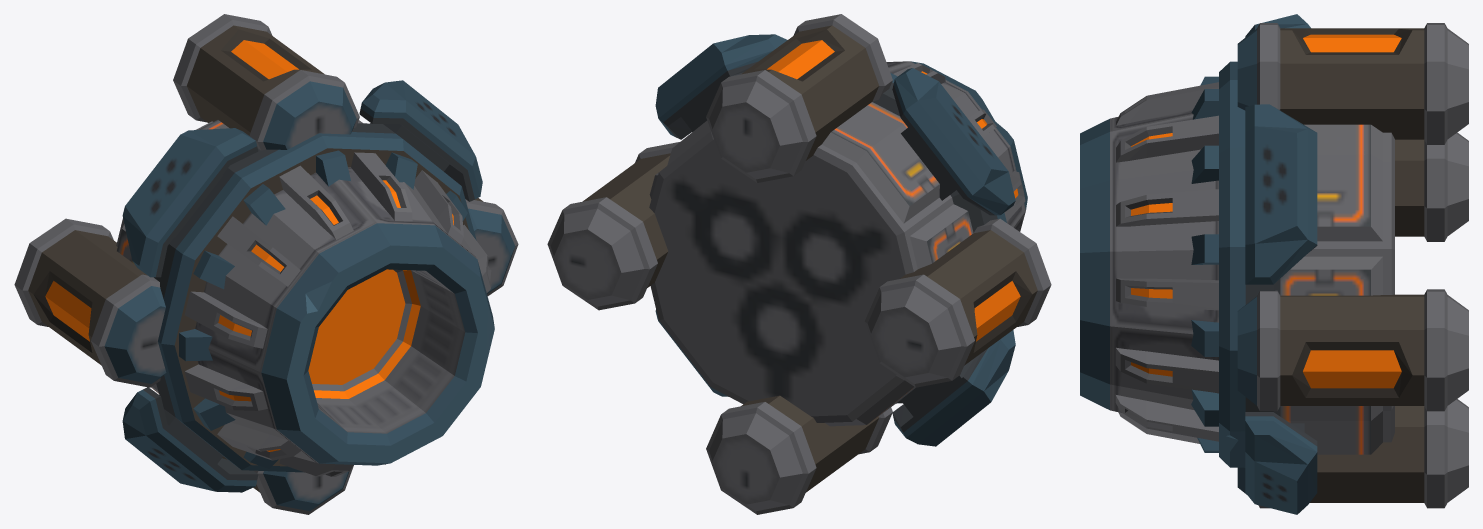
File: SM_Mech_Arm_01_Weapon_Forearm_04.fbx
The picture shows the model from 3 angles, left to right: view 1: azimuth 30°, elevation 25°; view 2: azimuth 150°, elevation 25°; view 3: azimuth 270°, elevation 25°; orthographic projection. The views are drawn at different scales.
Visible parts, largest first — view 1: SM_Mech_Arm_01_Weapon_Forearm_04; view 2: SM_Mech_Arm_01_Weapon_Forearm_04; view 3: SM_Mech_Arm_01_Weapon_Forearm_04.
Boxes of the visible parts, box(x1,y1,x2,y2) form: SM_Mech_Arm_01_Weapon_Forearm_04: box(14, 14, 518, 514); SM_Mech_Arm_01_Weapon_Forearm_04: box(547, 14, 1051, 514); SM_Mech_Arm_01_Weapon_Forearm_04: box(1080, 14, 1468, 514).
Bounding box in the file's own units: 62.17 × 62.17 × 45.54.
